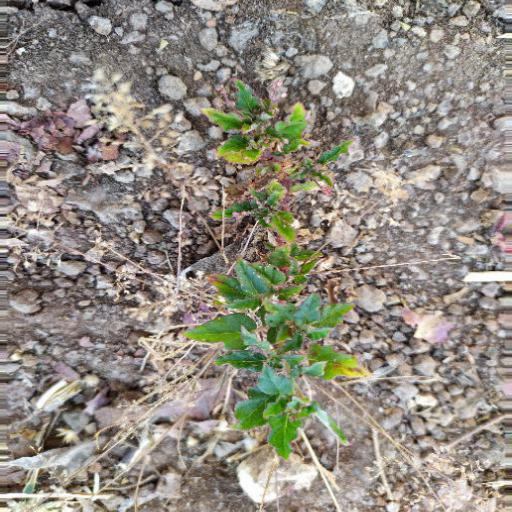weed: (129, 84, 360, 462)
